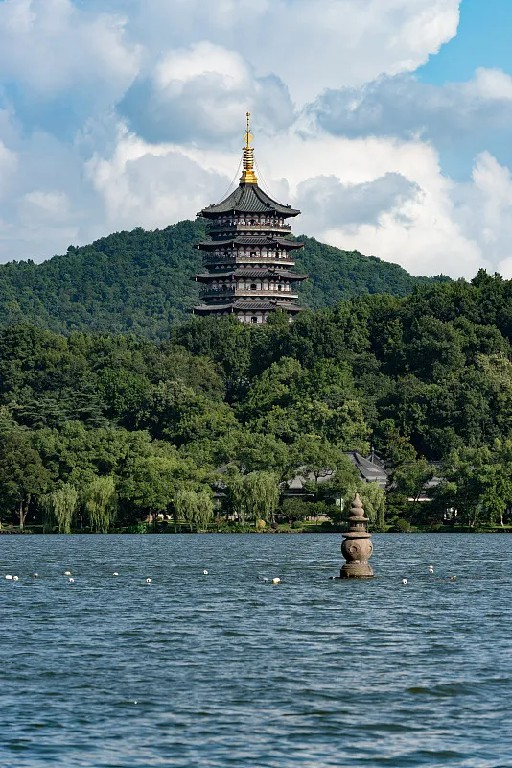Leifeng: (190, 111, 306, 327)
